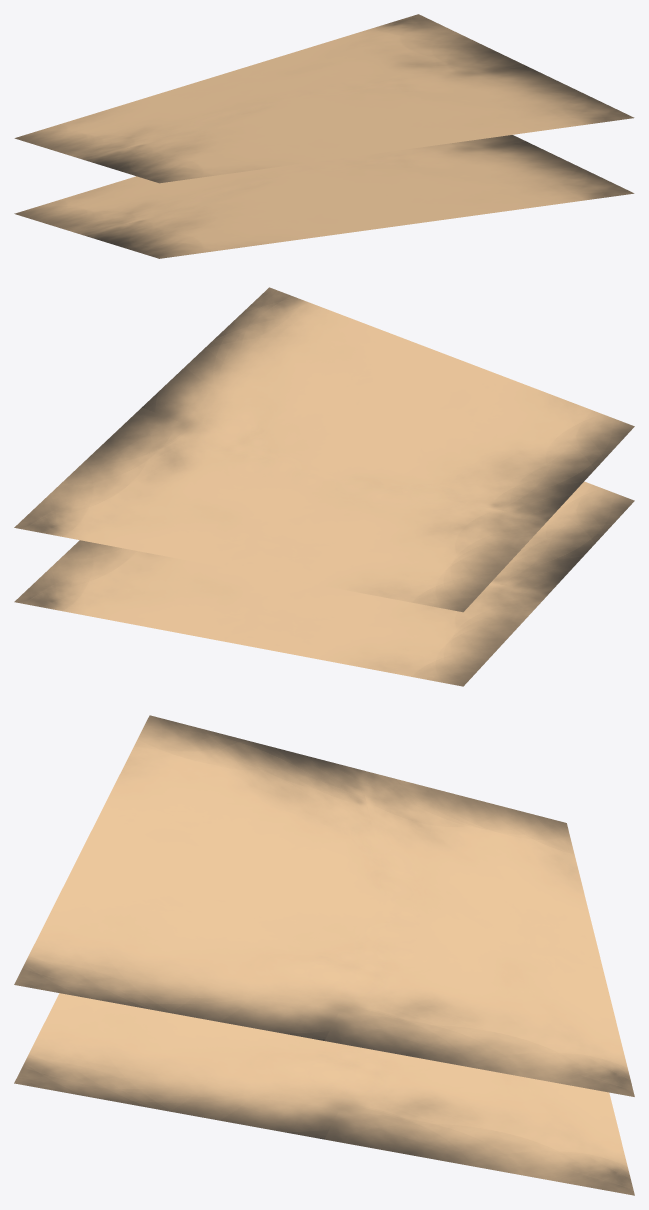
The model's file is CourseSummer_CurveFloor_9_2.fbx.
The picture shows the model from 3 angles, top to bottom: view 1: azimuth 30°, elevation 25°; view 2: azimuth 150°, elevation 25°; view 3: azimuth 270°, elevation 25°; orthographic projection. The views are drawn at different scales.
Parts seen in each view (by area): view 1: polySurface380; view 2: polySurface380; view 3: polySurface380.
Boxes of the visible parts, x1,y1,x2,y2 form: polySurface380: (14, 14, 634, 258); polySurface380: (14, 287, 634, 686); polySurface380: (14, 715, 634, 1195).
Size of the model in its own units: 6.17 by 2 by 5.71.
1 material, 1 textured.
